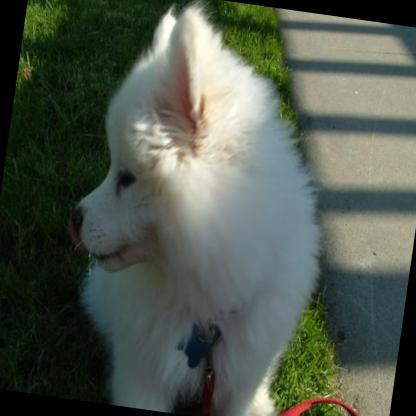Samoyed: (42, 0, 351, 416)
